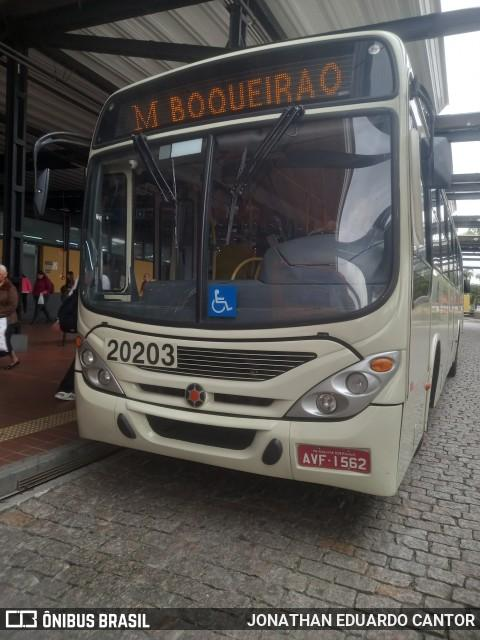BOQUEIRAO: (165, 52, 347, 129)
